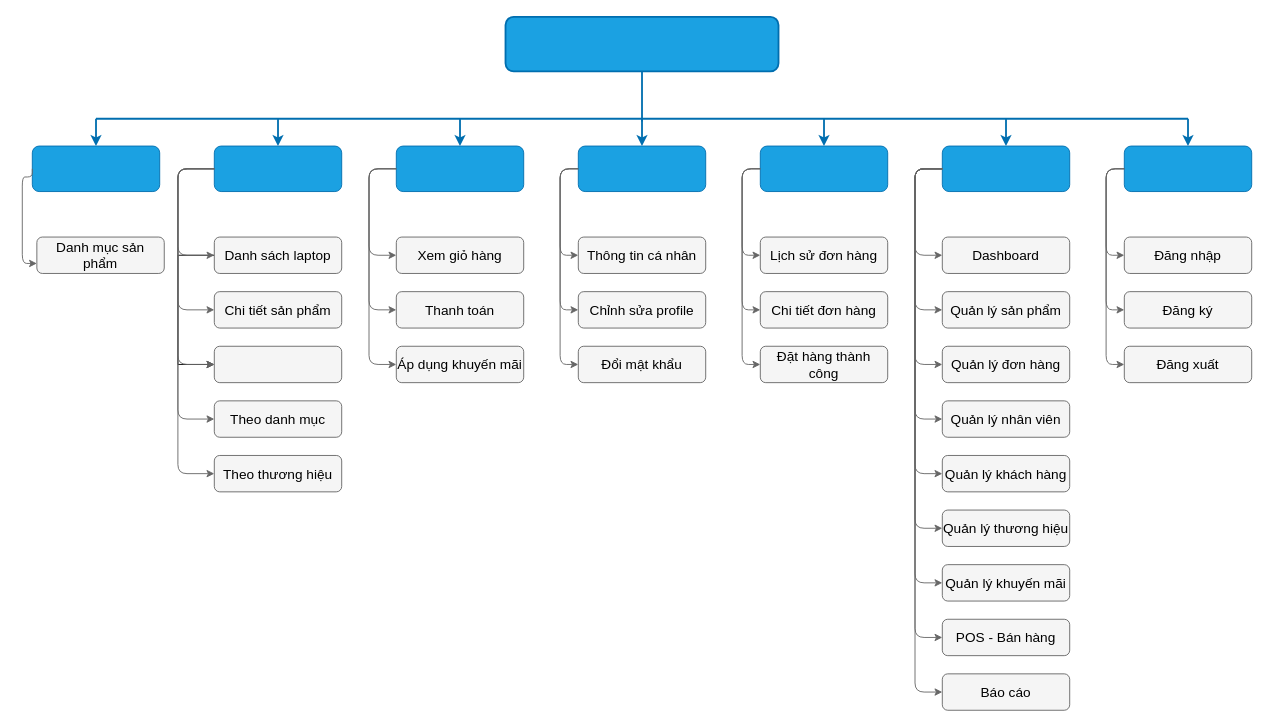
Some shapes in this 1268 by 726 pixel diagram are drawn without their labels. Here are the shapes that lost their labels. From the top down, the box of each, then its label:
(504, 15, 779, 72): NEON KINETIC Laptop E-commerce
(31, 145, 160, 192): Trang chủ
(213, 145, 342, 192): Sản phẩm
(395, 145, 524, 192): Giỏ hàng
(577, 145, 706, 192): Tài khoản
(759, 145, 888, 192): Đơn hàng
(941, 145, 1070, 192): Quản trị
(1123, 145, 1252, 192): Xác thực
(213, 345, 342, 383): Lọc và tìm kiếm
